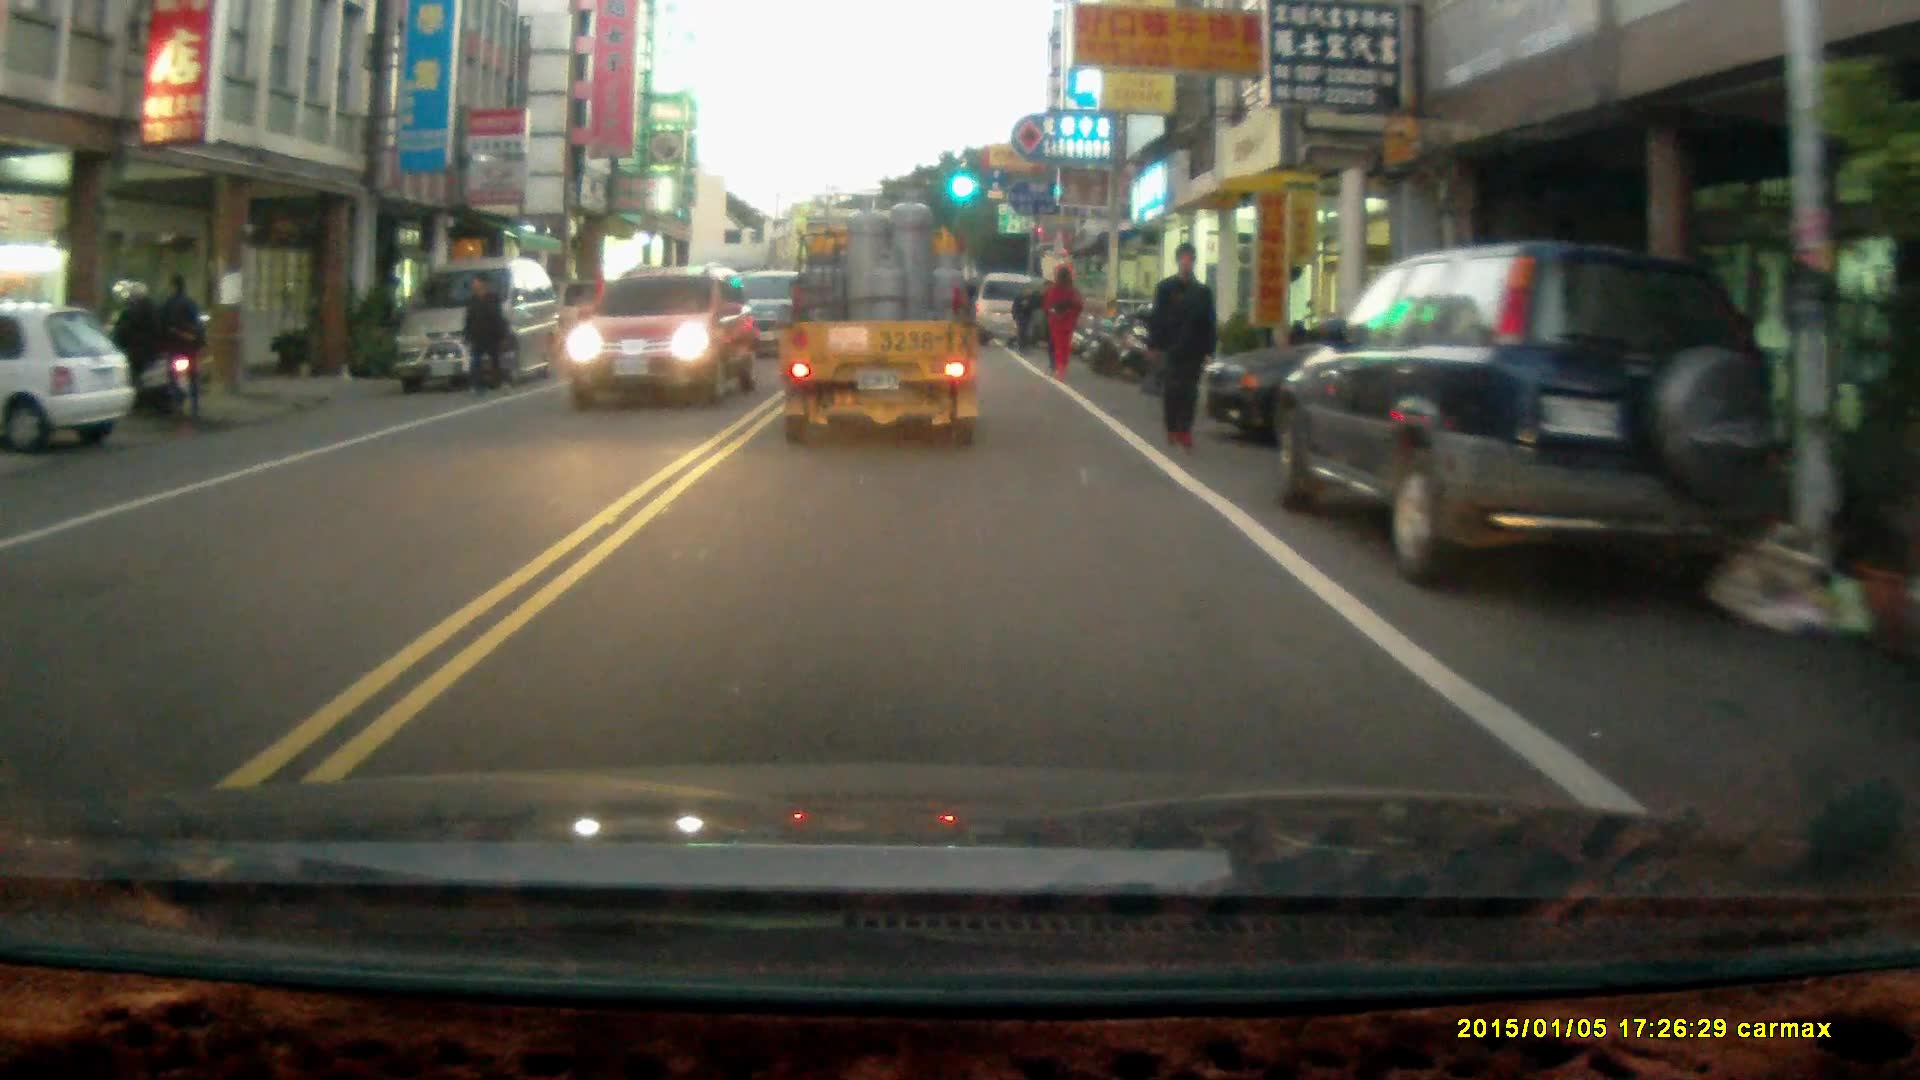pedestrian: (1143, 243, 1218, 452), (153, 274, 204, 429), (456, 268, 508, 401), (1044, 260, 1081, 379), (1010, 280, 1036, 344)
rider: (86, 278, 193, 424)
vehicle: (1272, 233, 1813, 594), (774, 196, 982, 462), (568, 267, 755, 407), (1, 315, 140, 460), (984, 270, 1048, 352)
